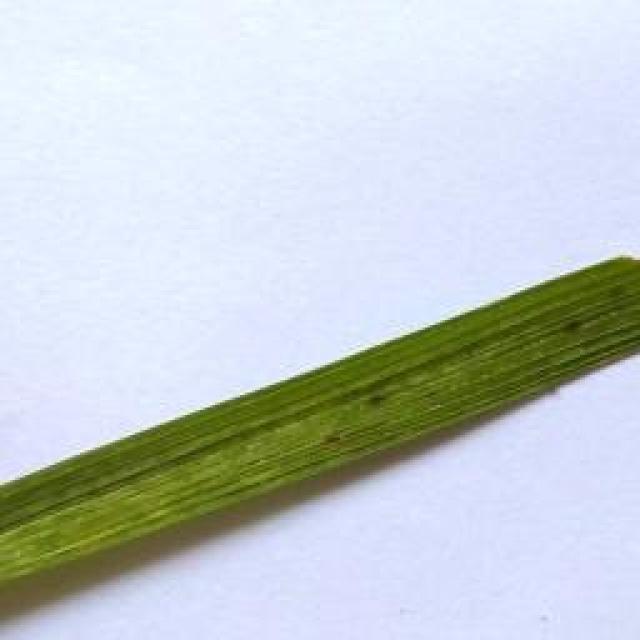Brown_Spot: (314, 428, 351, 452), (558, 315, 586, 340), (367, 383, 388, 405)
